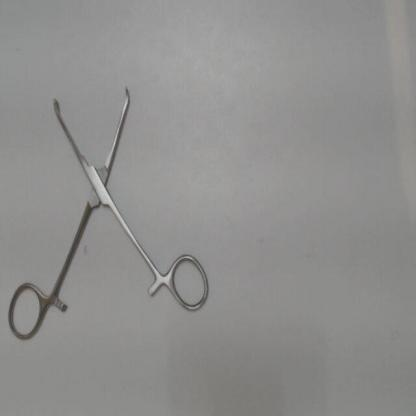Allis Tissue Forceps: (3, 80, 215, 346)
